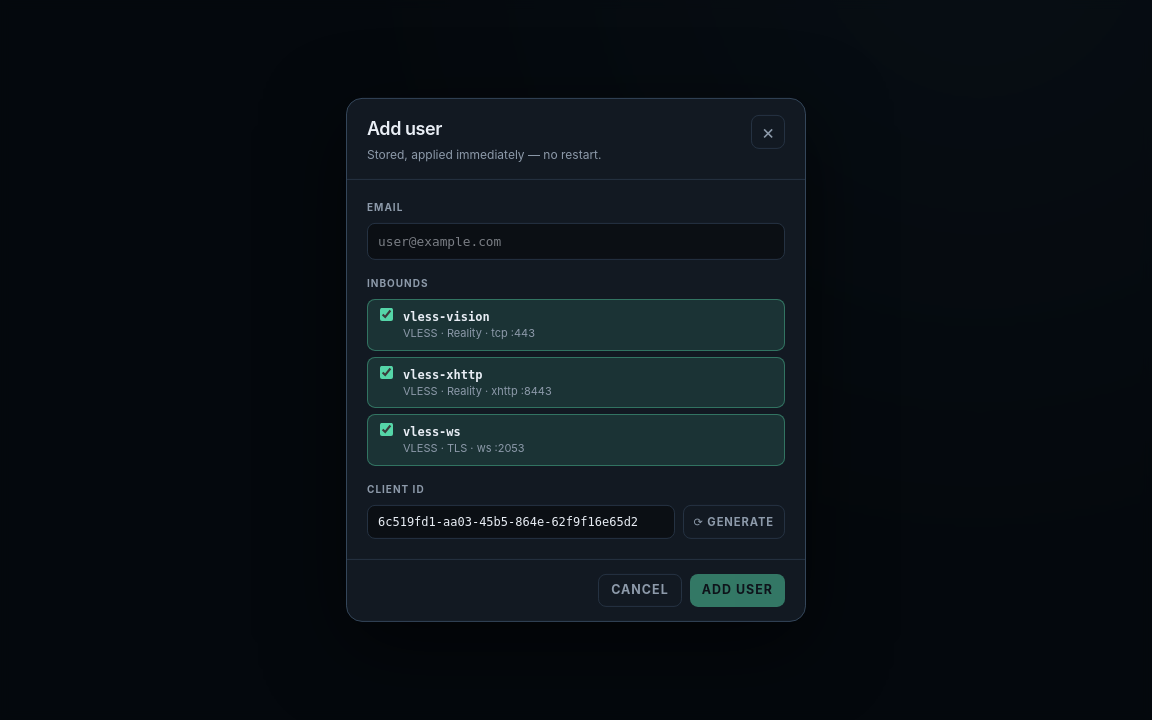
Test: add user dialog › shows the machine-readable conflict reason in the dialog
Type "iris@example.com" into the field labelled "Email" at (576, 242), box [367,223,785,260]
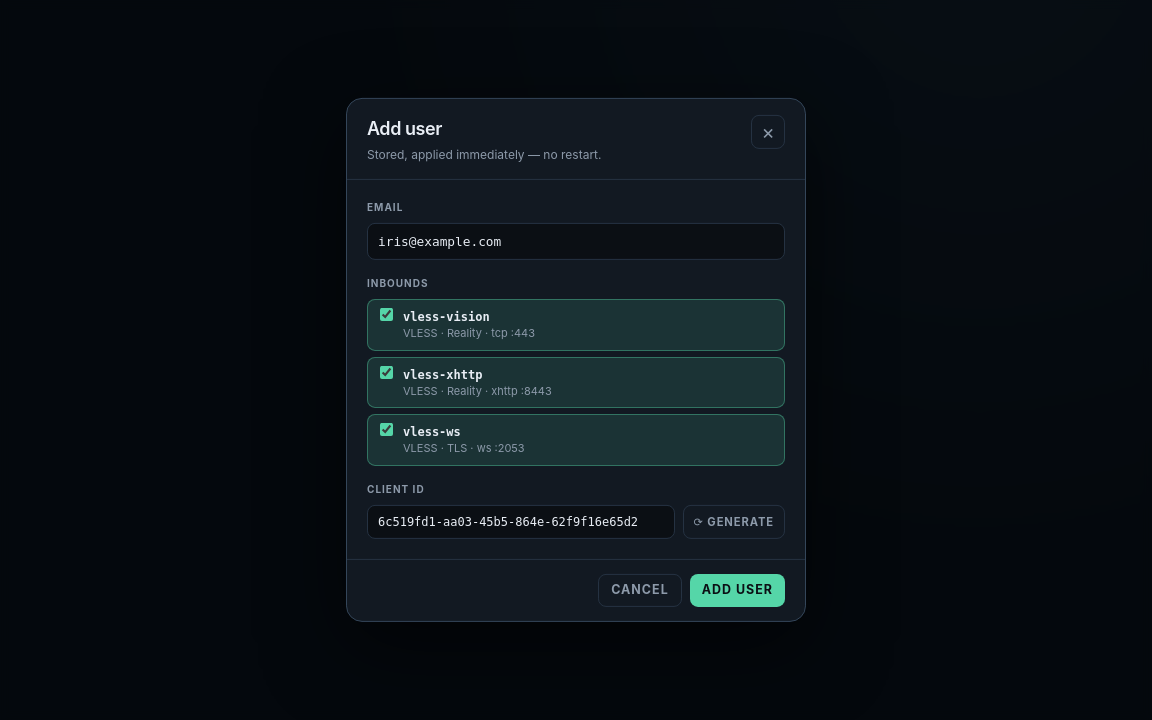
Click the button "Add user" at (737, 591), box [690,574,785,607]
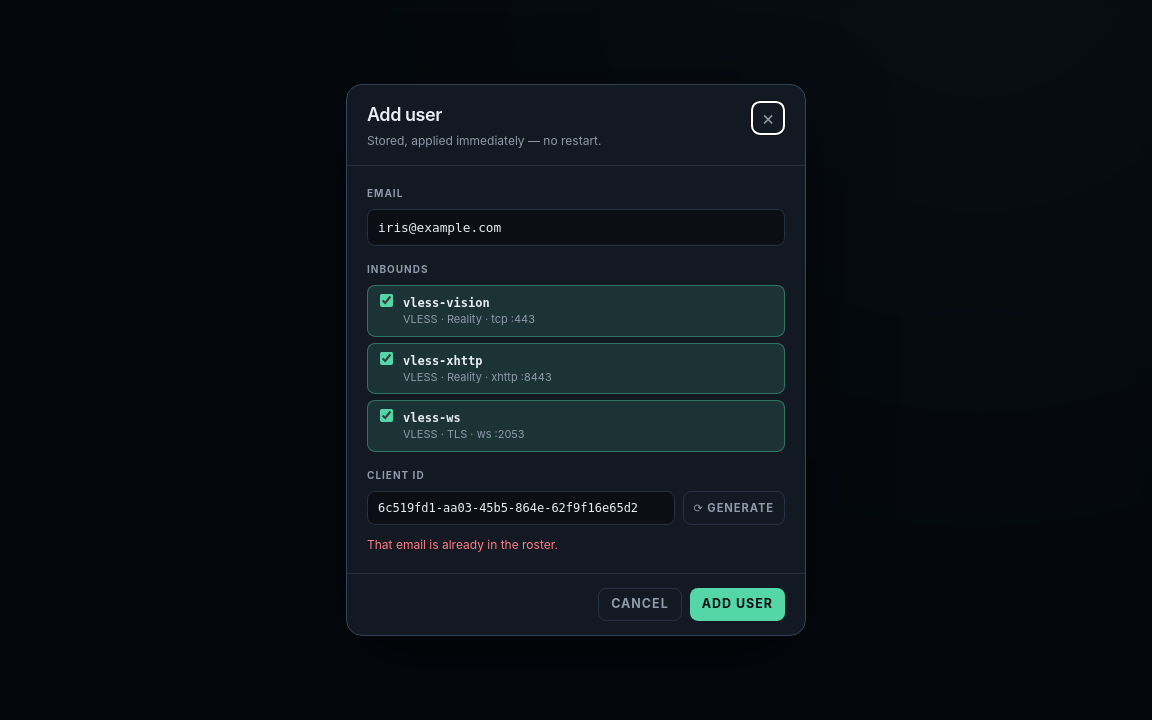
Check: the button "Add user" is enabled, box [690,588,785,621]
Check: the text "That email is already in the roster." is shown, box [367,537,558,552]
